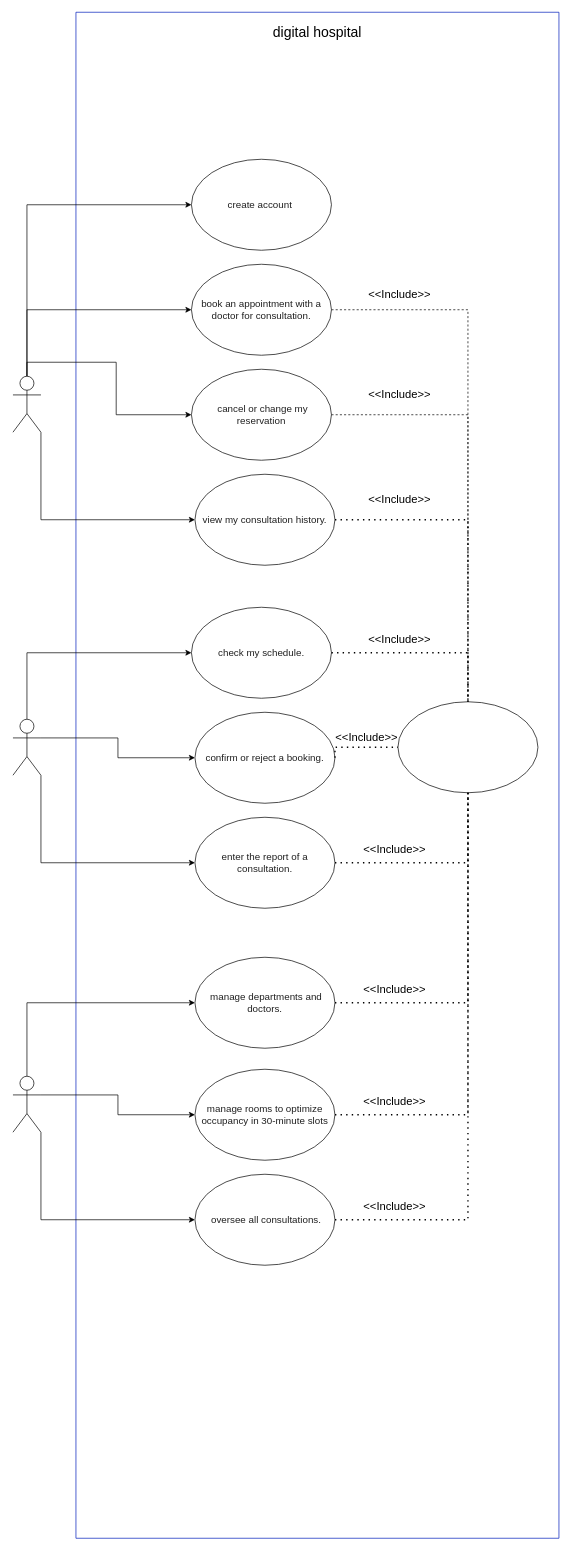
This 571x1551 diagram has some shape labels left out. The box of each missing label's shape, as (x1, y1, x2, y2) in pixels:
admin: (12, 1076, 41, 1132)
Authenctication: (397, 701, 538, 793)
doctors: (12, 719, 41, 775)
patients: (12, 376, 41, 432)
